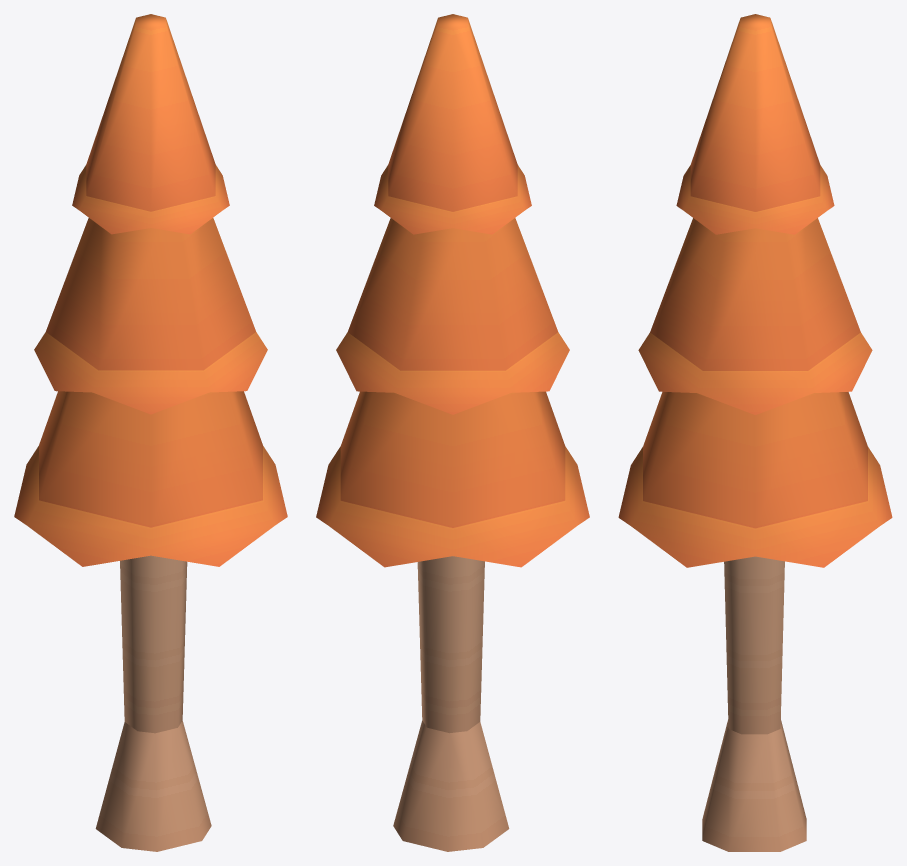
The model's file is tree-autumn-tall.glb.
3 renders of one model, left to right at view 1: azimuth 30°, elevation 25°; view 2: azimuth 150°, elevation 25°; view 3: azimuth 270°, elevation 25°, orthographic.
Visible parts, largest first — view 1: tree-autumn-tall; view 2: tree-autumn-tall; view 3: tree-autumn-tall.
Part boxes in pixels (box(x1,y1,x2,y2)): tree-autumn-tall: box(14, 14, 287, 851); tree-autumn-tall: box(316, 14, 589, 851); tree-autumn-tall: box(618, 14, 892, 851).
Bounding box in the file's own units: 0.5529 × 1.71 × 0.5262.
Materials: 1 (1 with a texture image).
